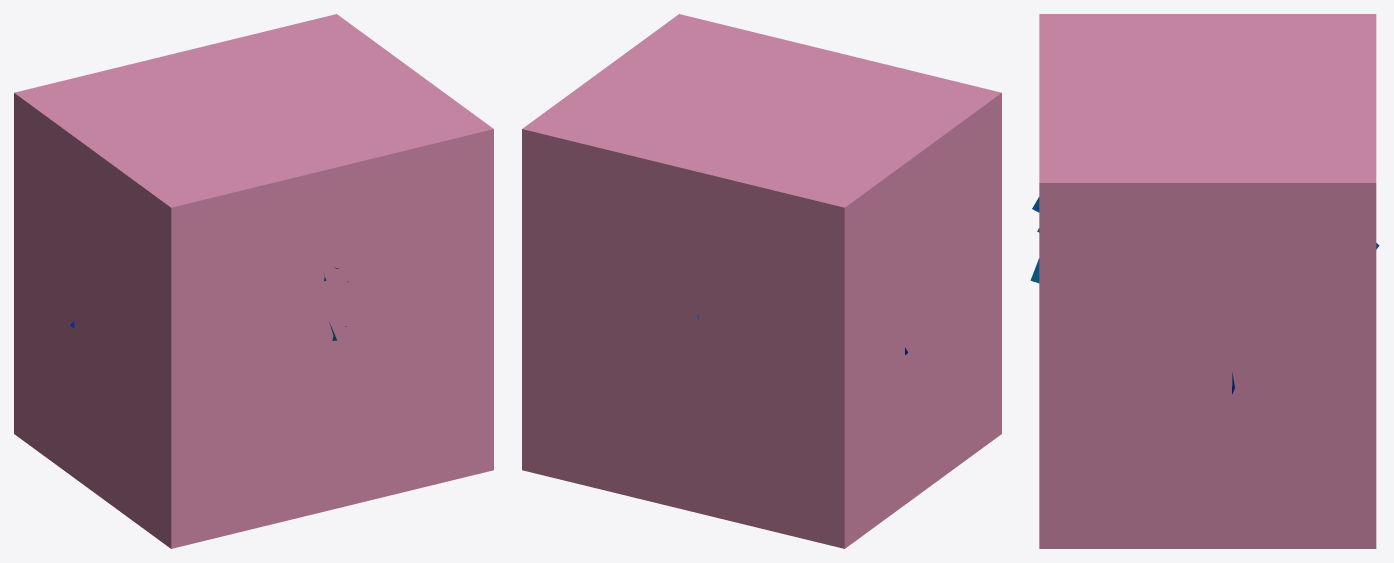
Rendered from tree_beech_blocker_a.dae.
3 views of the same model, side by side, from view 1: azimuth 30°, elevation 25°; view 2: azimuth 150°, elevation 25°; view 3: azimuth 270°, elevation 25° (orthographic). The views are drawn at different scales.
Parts seen in each view (by area): view 1: Untitled; view 2: Untitled; view 3: Untitled.
Part boxes in pixels (x1,y1,x2,y2): Untitled: [14, 14, 493, 548]; Untitled: [522, 14, 1001, 548]; Untitled: [1039, 14, 1376, 548].
Size of the model in its own units: 5.61 by 4.7 by 5.61.
